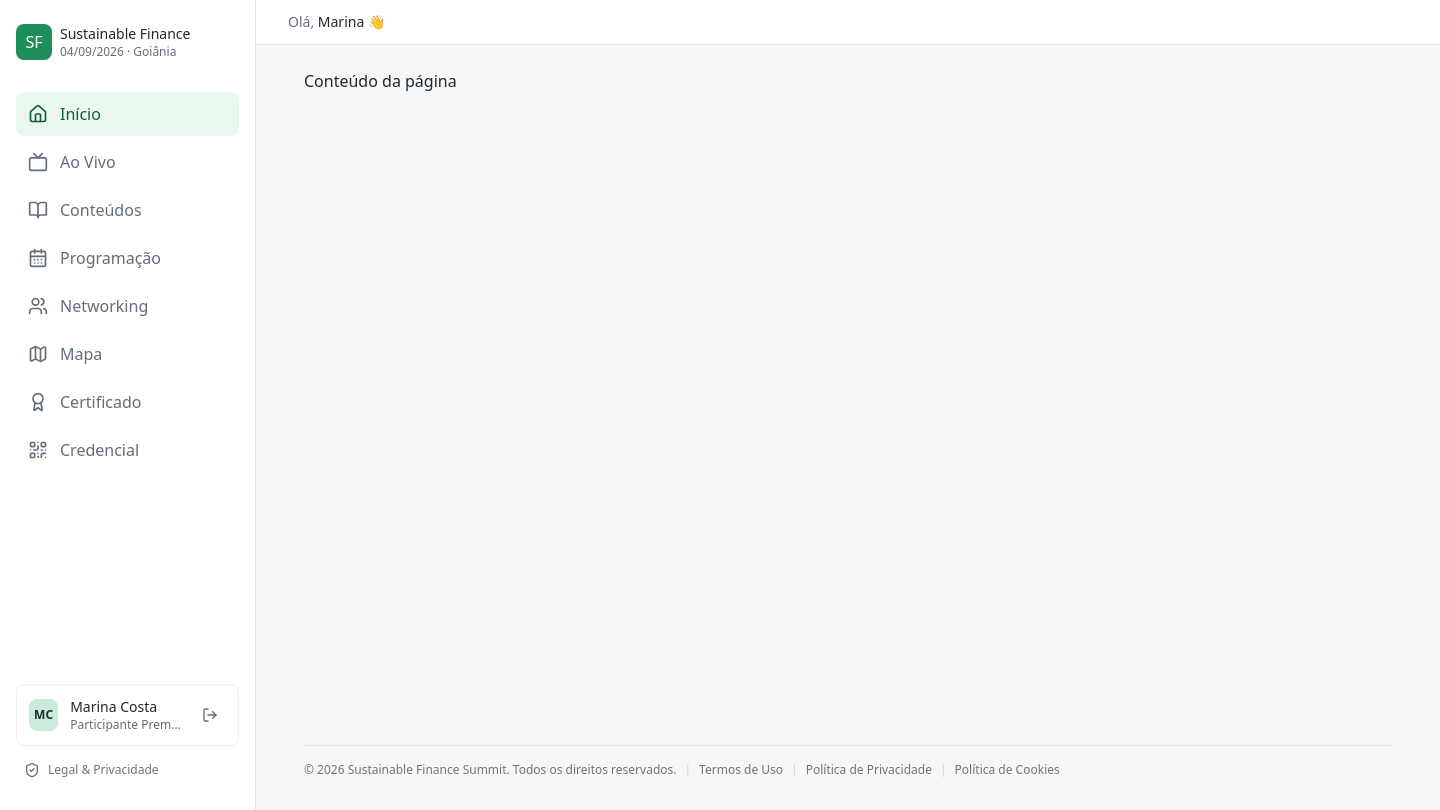
Scenario: documentos legais › o atalho da barra lateral abre o mesmo leitor
Click the button "Legal & Privacidade" at (128,770), box [16, 754, 239, 786]
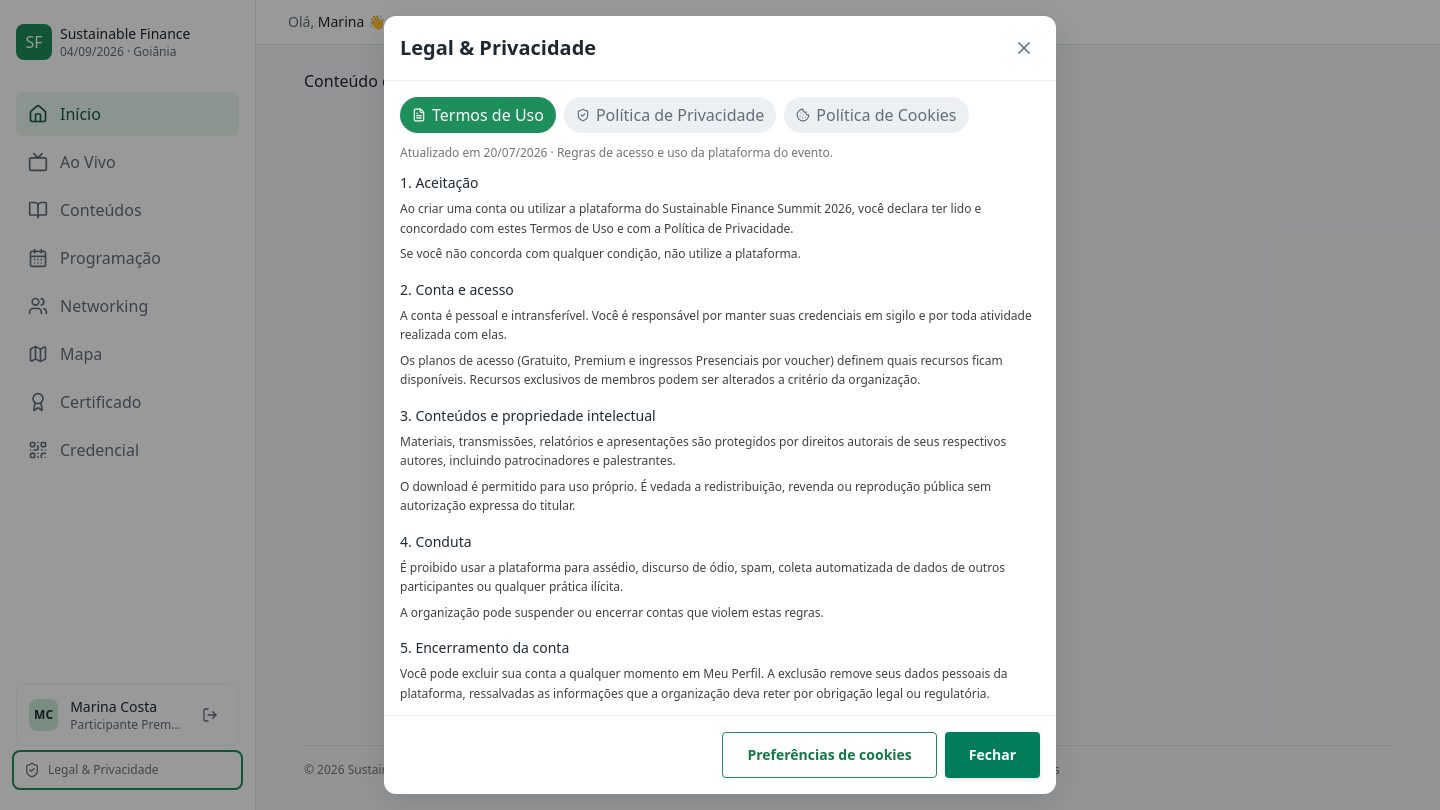
Result: the dialog "Legal & Privacidade" is shown at [384, 16, 1056, 794]
